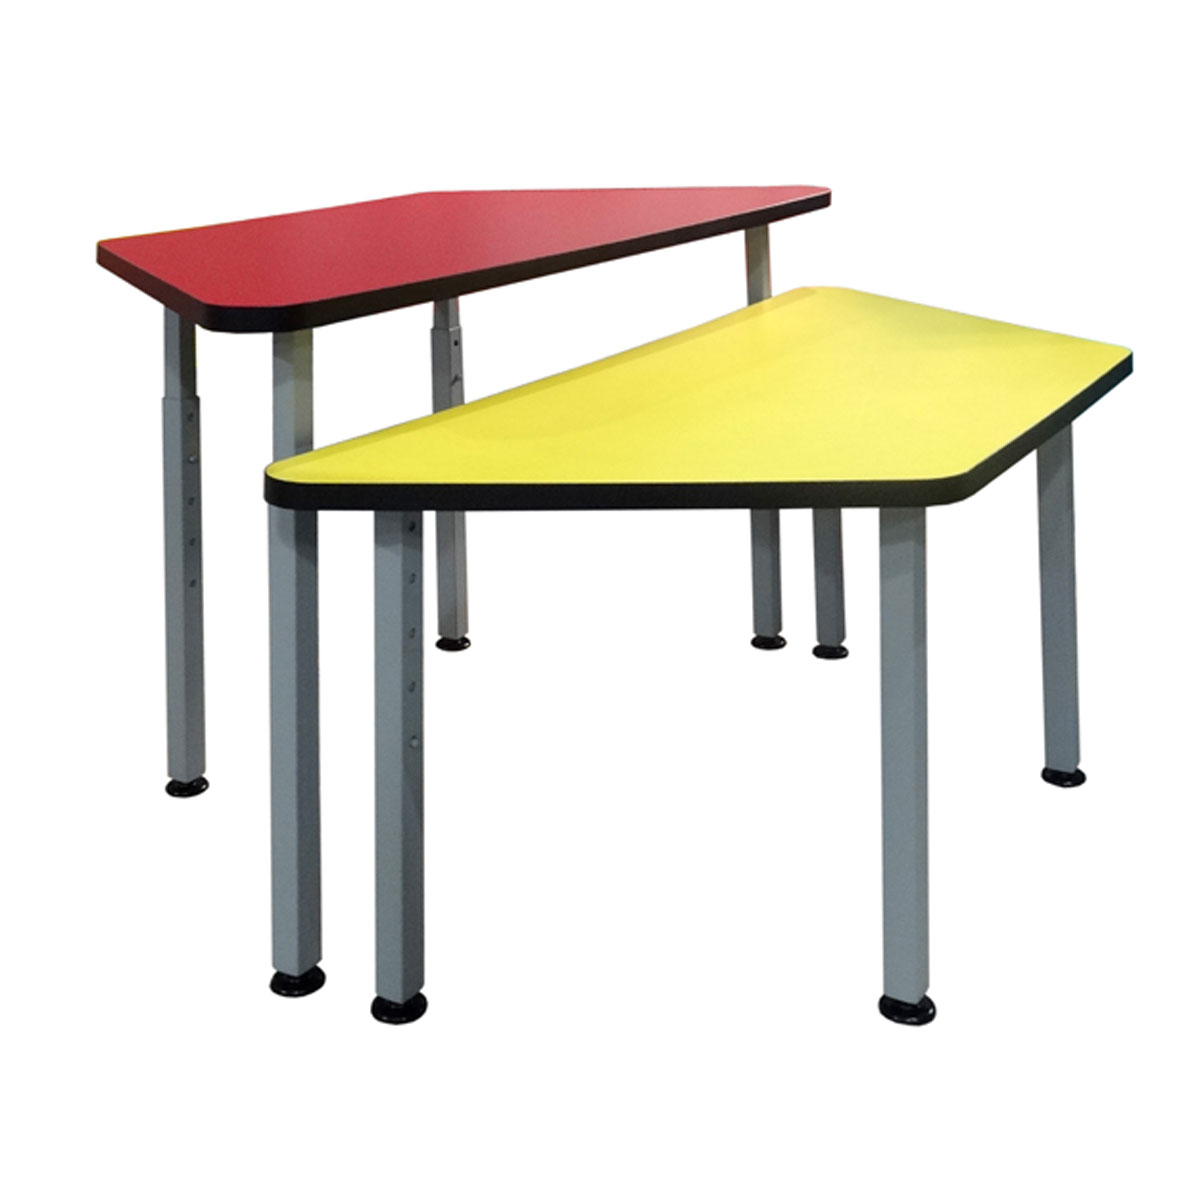m01: (95, 182, 1136, 1027)
